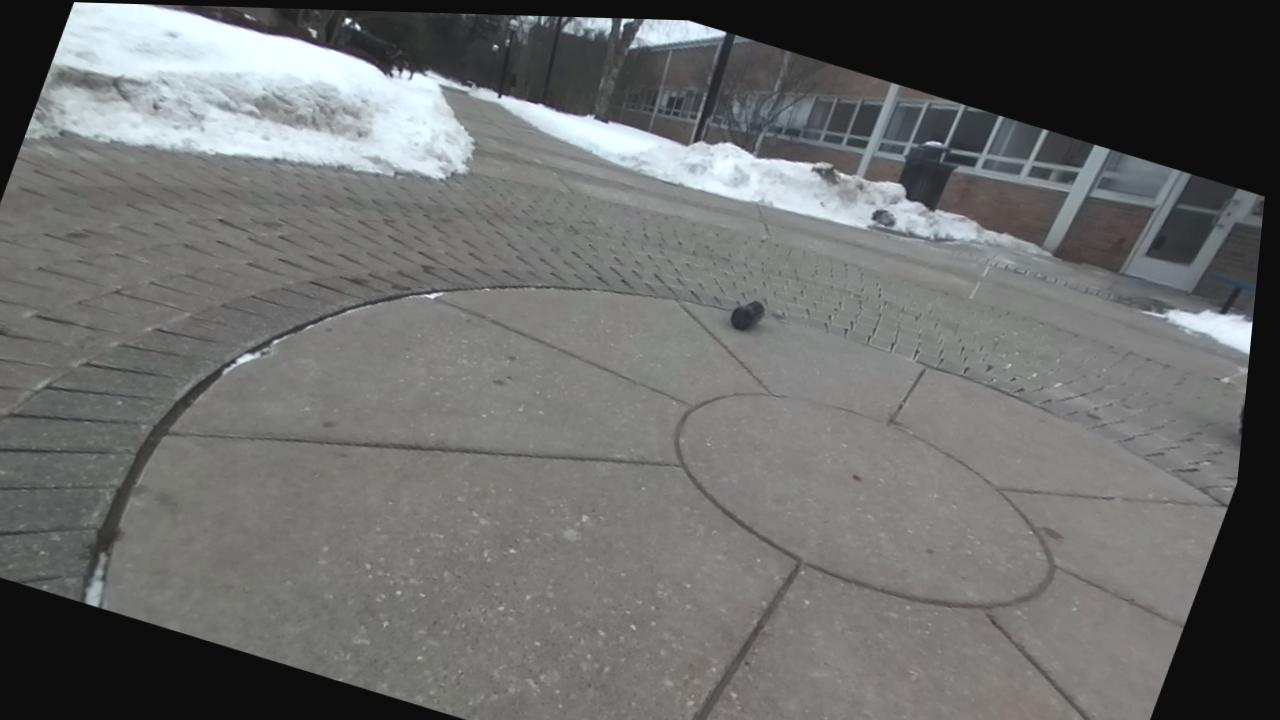bottle: (730, 300, 765, 330)
